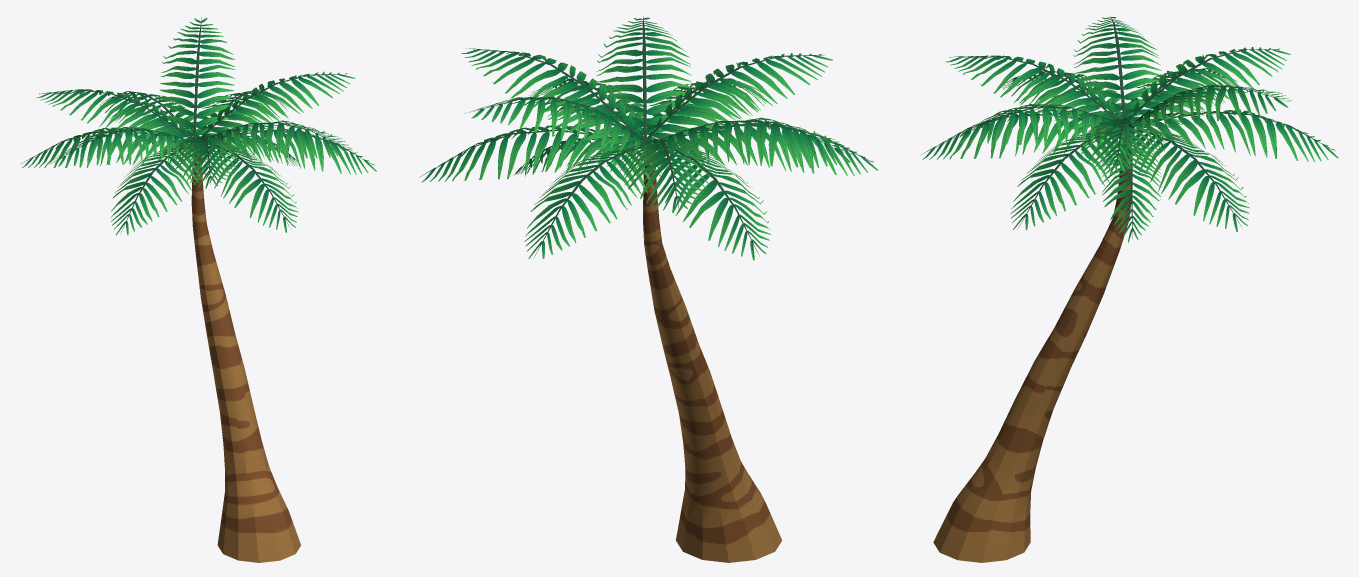
Rendered from Tall_Palm.fbx.
3 renders of one model, left to right at view 1: azimuth 30°, elevation 25°; view 2: azimuth 150°, elevation 25°; view 3: azimuth 270°, elevation 25°, orthographic. The views are drawn at different scales.
Parts seen in each view (by area): view 1: pCylinder1, pPlane7, pPlane8, pPlane5, pPlane4, pPlane13, pPlane9, pPlane11, pPlane3, pPlane10, pPlane6, pPlane1 (+1 smaller); view 2: pCylinder1, pPlane9, pPlane10, pPlane1, pPlane8, pPlane6, pPlane2, pPlane11, pPlane13, pPlane7, pPlane5, pPlane4 (+2 smaller); view 3: pCylinder1, pPlane11, pPlane2, pPlane10, pPlane3, pPlane13, pPlane1, pPlane9, pPlane7, pPlane12, pPlane4, pPlane8 (+2 smaller).
Part boxes in pixels (x1,y1,x2,y2): pCylinder1: [191, 142, 300, 562]; pPlane7: [159, 17, 235, 143]; pPlane8: [196, 71, 355, 146]; pPlane5: [111, 145, 210, 235]; pPlane4: [188, 142, 298, 232]; pPlane13: [36, 89, 198, 155]; pPlane9: [198, 120, 351, 159]; pPlane11: [50, 127, 198, 166]; pPlane3: [201, 129, 376, 174]; pPlane10: [169, 135, 243, 188]; pPlane6: [20, 127, 186, 167]; pPlane1: [100, 91, 200, 138]; pCylinder1: [643, 144, 782, 562]; pPlane9: [596, 16, 691, 143]; pPlane10: [642, 53, 832, 150]; pPlane1: [524, 147, 662, 258]; pPlane8: [461, 48, 643, 152]; pPlane6: [636, 144, 770, 260]; pPlane2: [419, 125, 635, 182]; pPlane11: [652, 117, 853, 167]; pPlane13: [615, 138, 713, 213]; pPlane7: [464, 96, 653, 162]; pPlane5: [664, 121, 878, 175]; pPlane4: [636, 78, 766, 147]; pCylinder1: [933, 125, 1132, 562]; pPlane11: [1073, 16, 1162, 122]; pPlane2: [1117, 129, 1249, 232]; pPlane10: [945, 55, 1131, 138]; pPlane3: [1010, 128, 1141, 230]; pPlane13: [1122, 47, 1290, 129]; pPlane1: [1139, 109, 1338, 162]; pPlane9: [951, 104, 1132, 145]; pPlane7: [1131, 84, 1292, 139]; pPlane12: [1101, 137, 1161, 242]; pPlane4: [920, 109, 1119, 159]; pPlane8: [1080, 117, 1168, 173].
Size of the model in its own units: 36.17 by 45.87 by 37.02.
2 materials, 2 textured.
